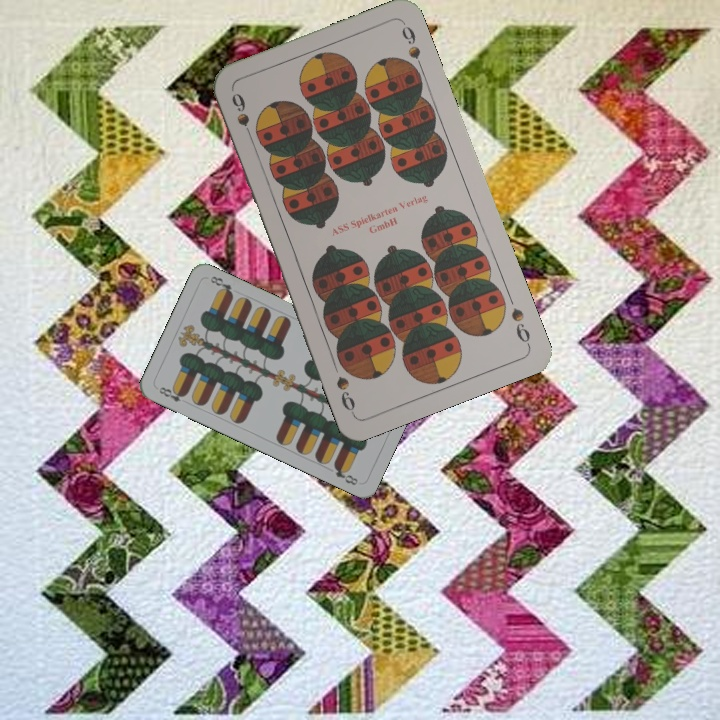E8: (155, 383, 189, 405)
S9: (227, 89, 257, 145), (507, 303, 533, 349)
